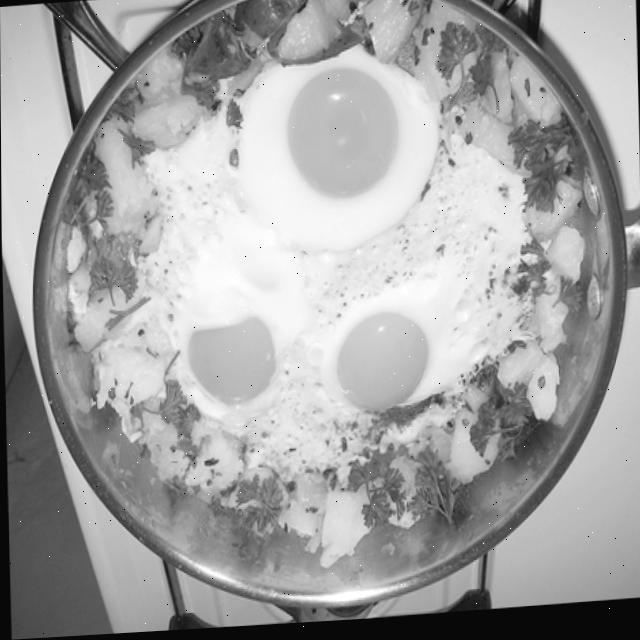鸡蛋料理: (149, 58, 519, 498)
